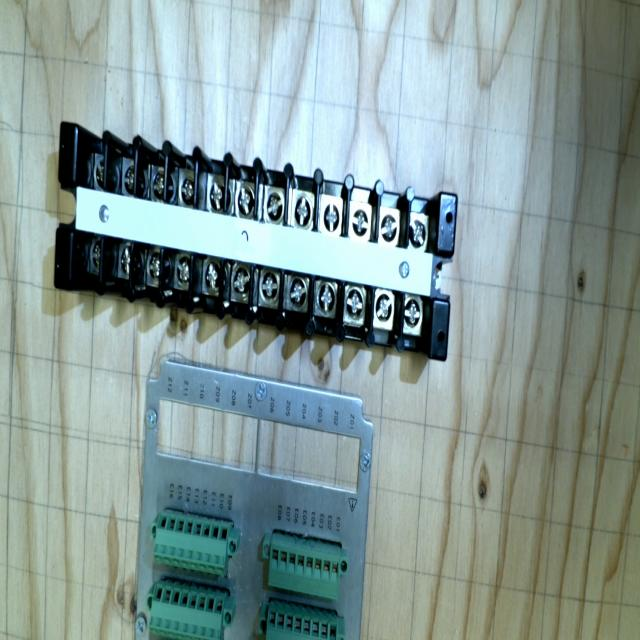Phillips_Block: (31, 122, 476, 359)
Terminal_2: (151, 513, 234, 576)
